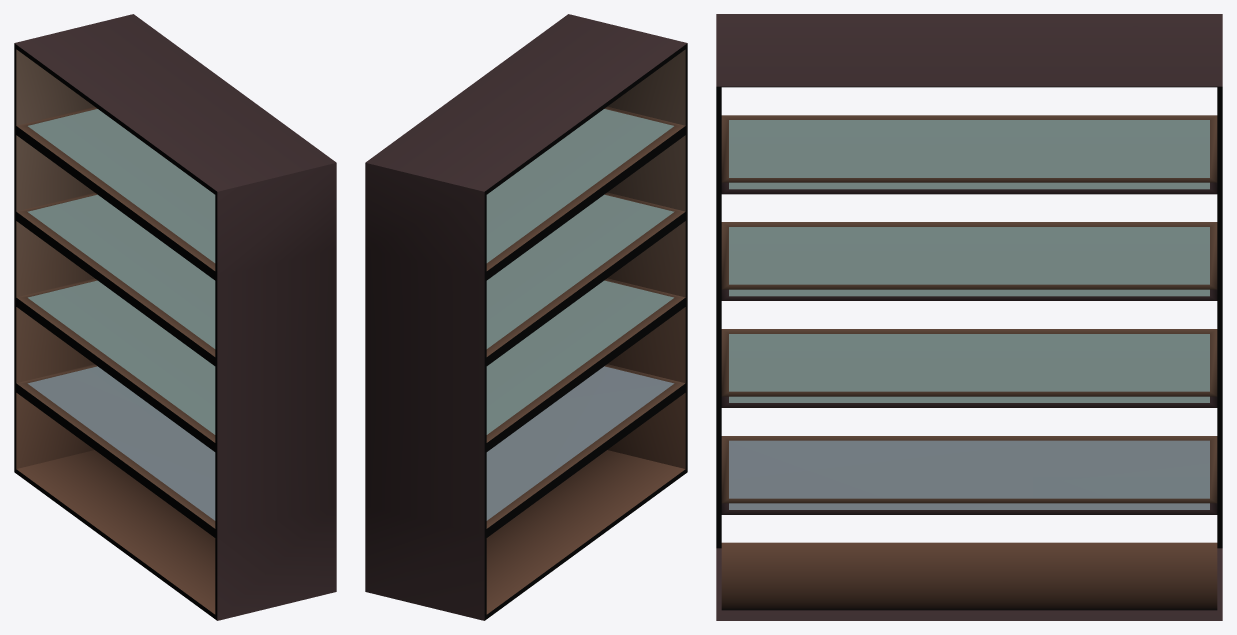
File: Shelf.fbx
3 views of the same model, side by side, from view 1: azimuth 30°, elevation 25°; view 2: azimuth 150°, elevation 25°; view 3: azimuth 270°, elevation 25° (orthographic). The views are drawn at different scales.
Parts seen in each view (by area): view 1: Cube.024; view 2: Cube.024; view 3: Cube.024.
Boxes of the visible parts, box(x1,y1,x2,y2) form: Cube.024: box(14, 14, 336, 620); Cube.024: box(365, 14, 687, 620); Cube.024: box(716, 14, 1222, 620).
Bounding box in the file's own units: 13.93 × 4.72 × 16.23.
